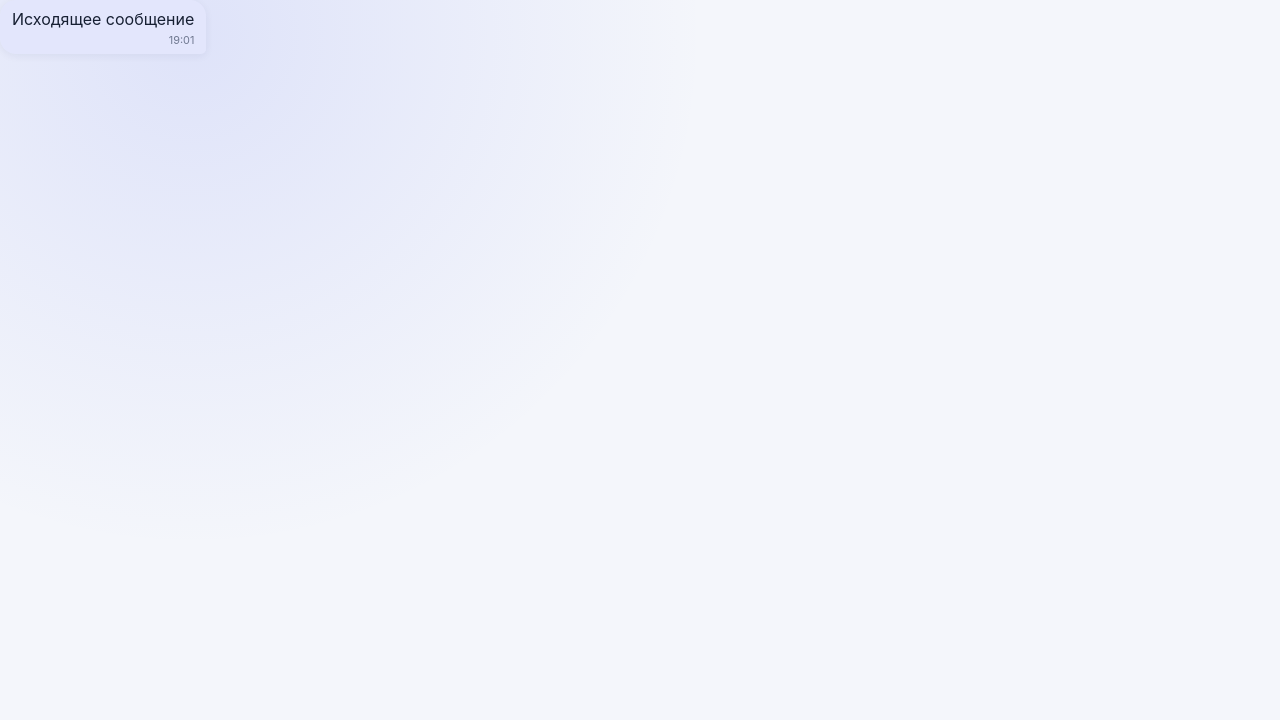
it: message context menu › asks before deleting and offers to withdraw for everyone
Later steps or results of the test are not shown.
Right-click the text "Исходящее сообщение".
right_click(103, 27)  # box [0,0,206,54]
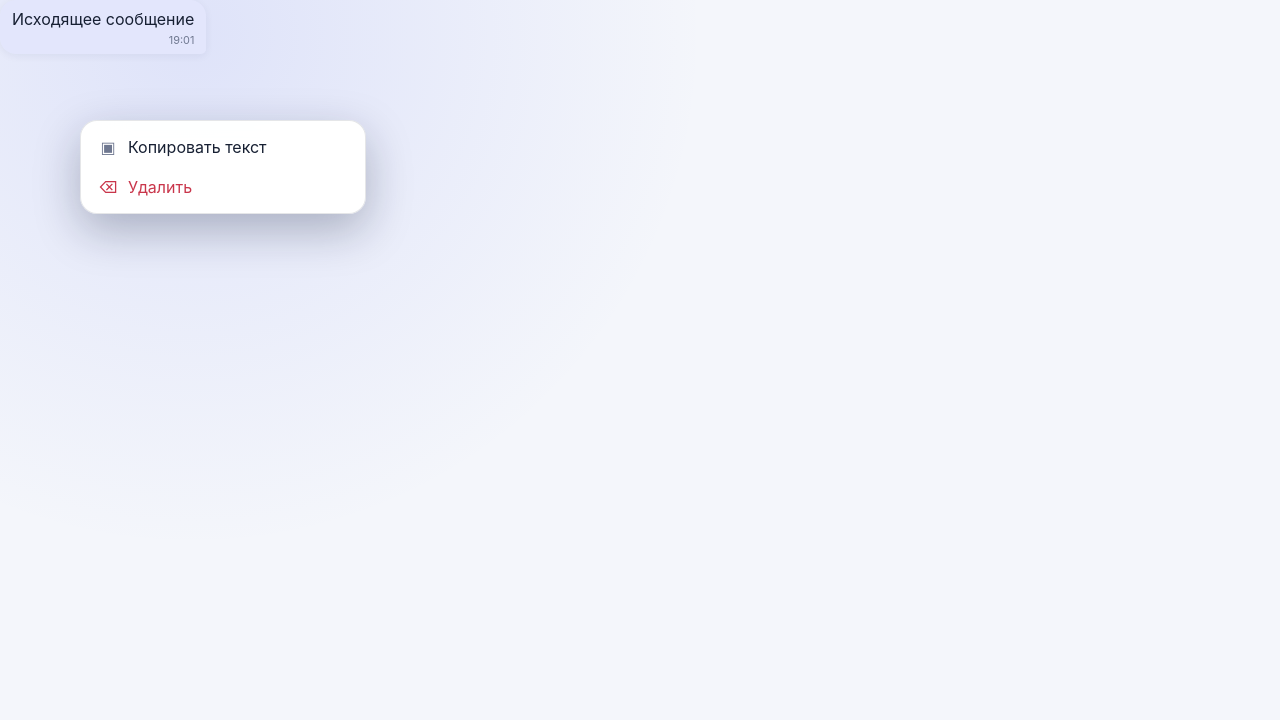
Click the menu item "⌫ Удалить".
click(160, 187)  # box [87,167,359,207]
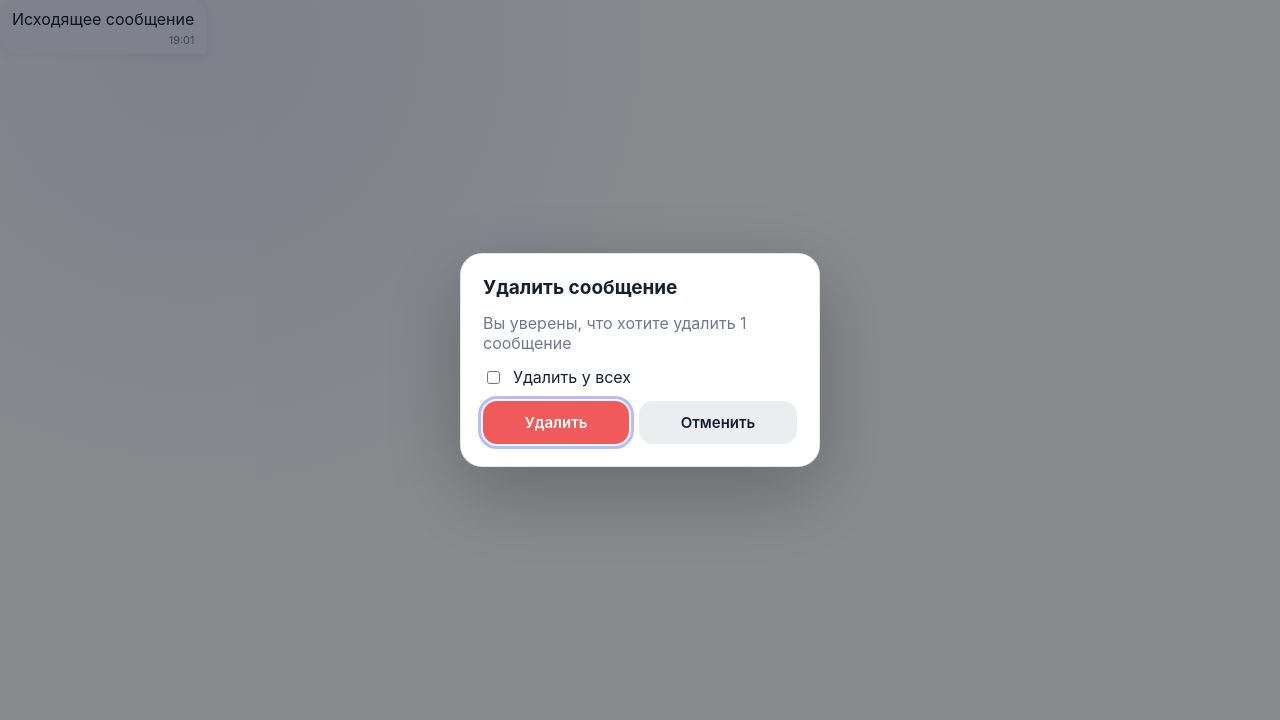
Now the dialog shows "Удалить сообщение", box [483,276,677,299]
